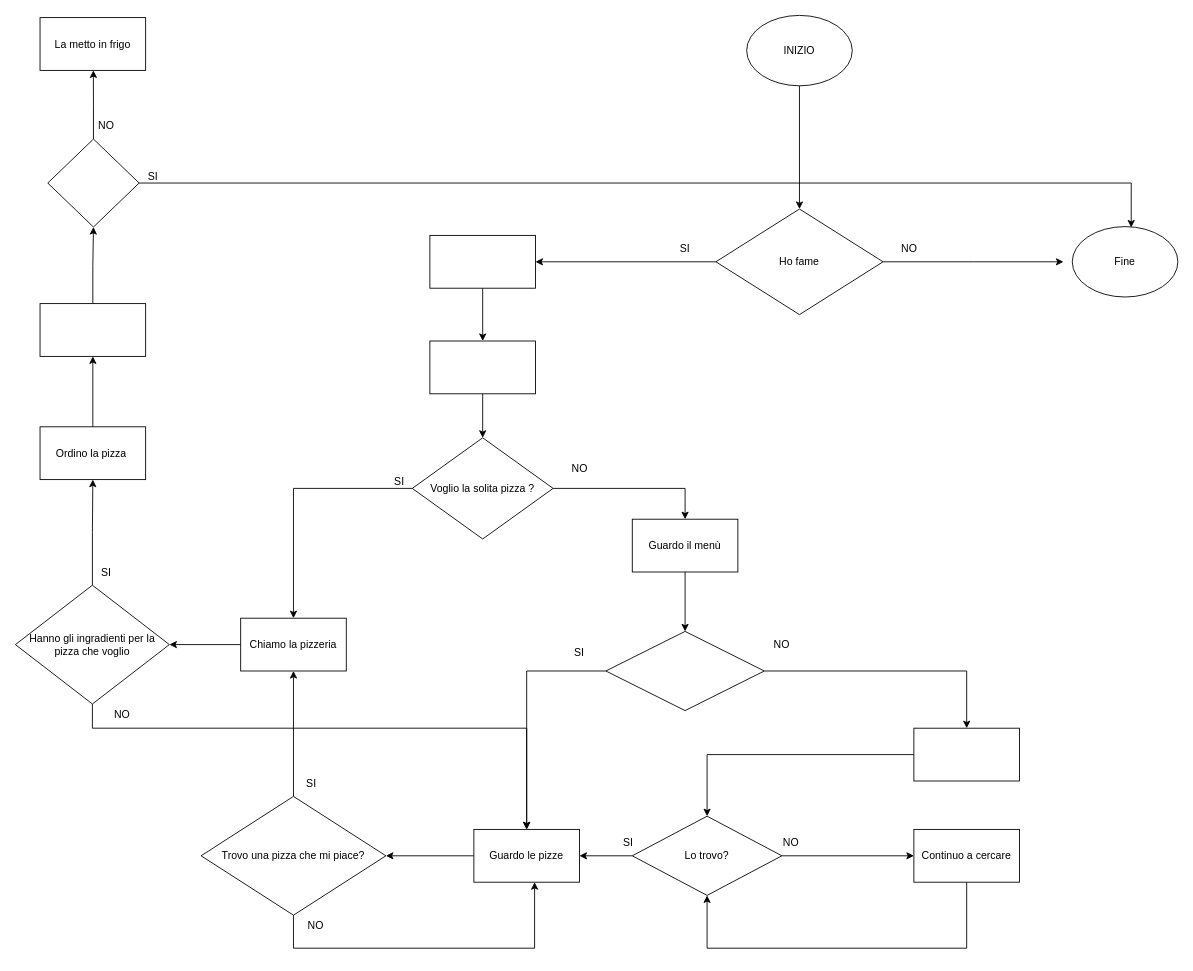
Some shapes in this 1193 by 971 pixel diagram are drawn without their labels. The box of each missing label's shape, as (x1, y1, x2, y2) in pixels:
Ho il menu delle pizze?: (605, 631, 764, 711)
Lo cerco su internet: (913, 727, 1019, 781)
Mangio la pizza: (39, 303, 146, 356)
Me la finisco?: (47, 138, 139, 227)
Ordino una pizza: (429, 235, 535, 288)
Prendo il telefono: (429, 340, 535, 394)
